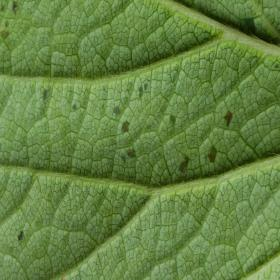Angular Leafspot: (10, 222, 32, 250)
